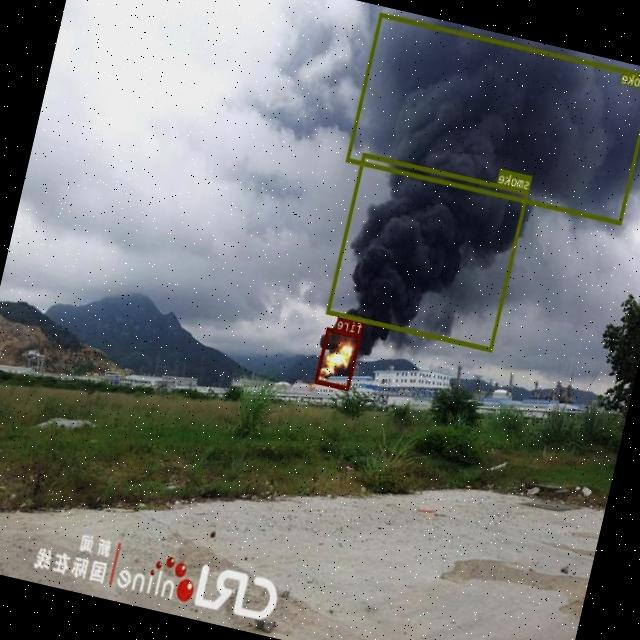fire: (315, 327, 362, 390)
smoke: (346, 11, 640, 224), (326, 152, 530, 351)
